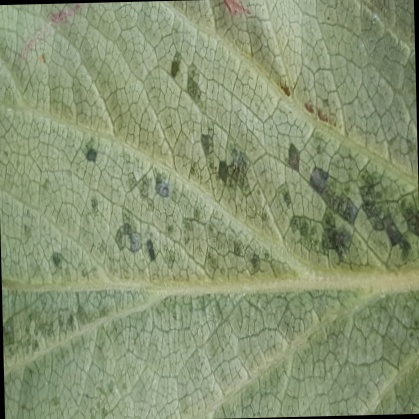Angular_LS: (0, 47, 418, 347)
